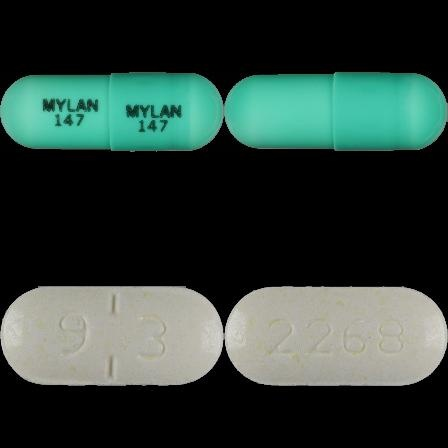55700-330: (0, 0, 224, 224)
